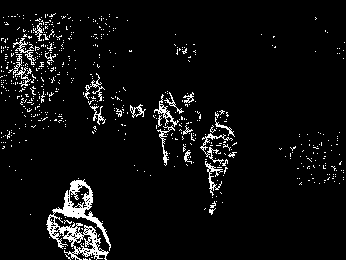person: (47, 177, 114, 260), (201, 108, 237, 216), (154, 89, 178, 170), (177, 90, 201, 168), (84, 73, 108, 134)
